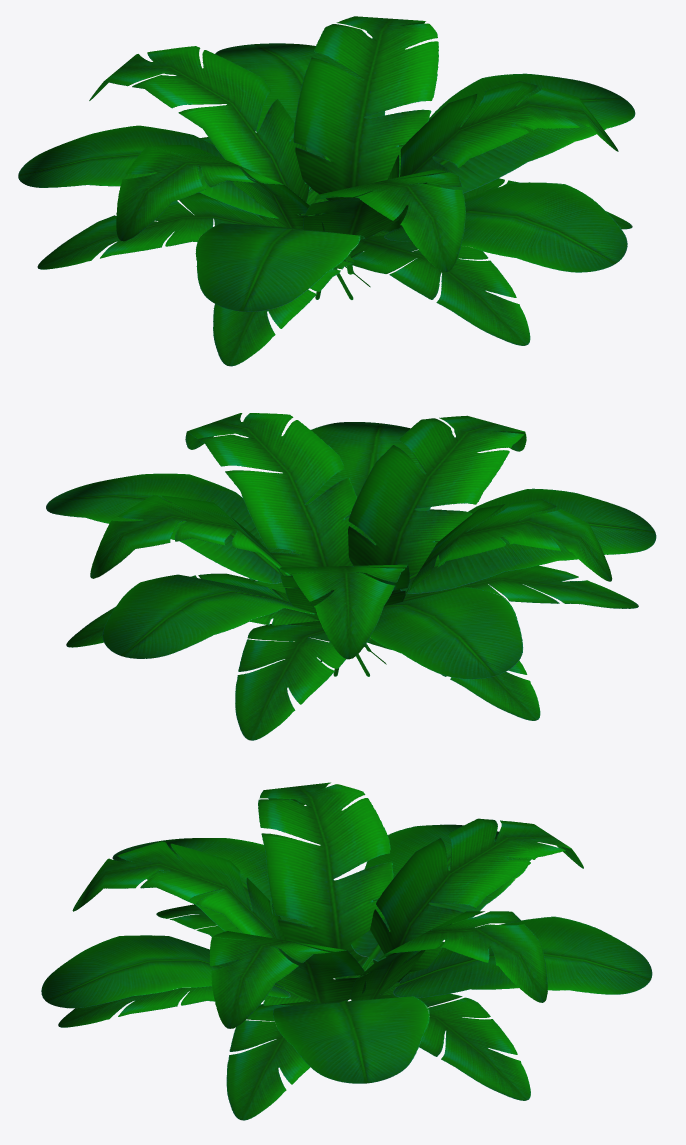
The model's file is PR_Bush_Mid.fbx.
3 views of the same model, one above another, from view 1: azimuth 30°, elevation 25°; view 2: azimuth 150°, elevation 25°; view 3: azimuth 270°, elevation 25° (orthographic). The views are drawn at different scales.
Visible parts, largest first — view 1: Palm Leaf.043, Palm Leaf.046, Palm Leaf.045; view 2: Palm Leaf.043, Palm Leaf.046, Palm Leaf.045; view 3: Palm Leaf.043, Palm Leaf.046, Palm Leaf.045.
Part boxes in pixels (bbox=[...]): Palm Leaf.043: bbox=[89, 16, 618, 272]; Palm Leaf.046: bbox=[18, 43, 635, 311]; Palm Leaf.045: bbox=[37, 137, 632, 366]; Palm Leaf.043: bbox=[90, 413, 612, 659]; Palm Leaf.046: bbox=[46, 422, 656, 679]; Palm Leaf.045: bbox=[66, 509, 638, 740]; Palm Leaf.043: bbox=[72, 782, 583, 1028]; Palm Leaf.046: bbox=[41, 824, 652, 1083]; Palm Leaf.045: bbox=[58, 904, 530, 1120].
Size of the model in its own units: 1499 by 436 by 1531.
